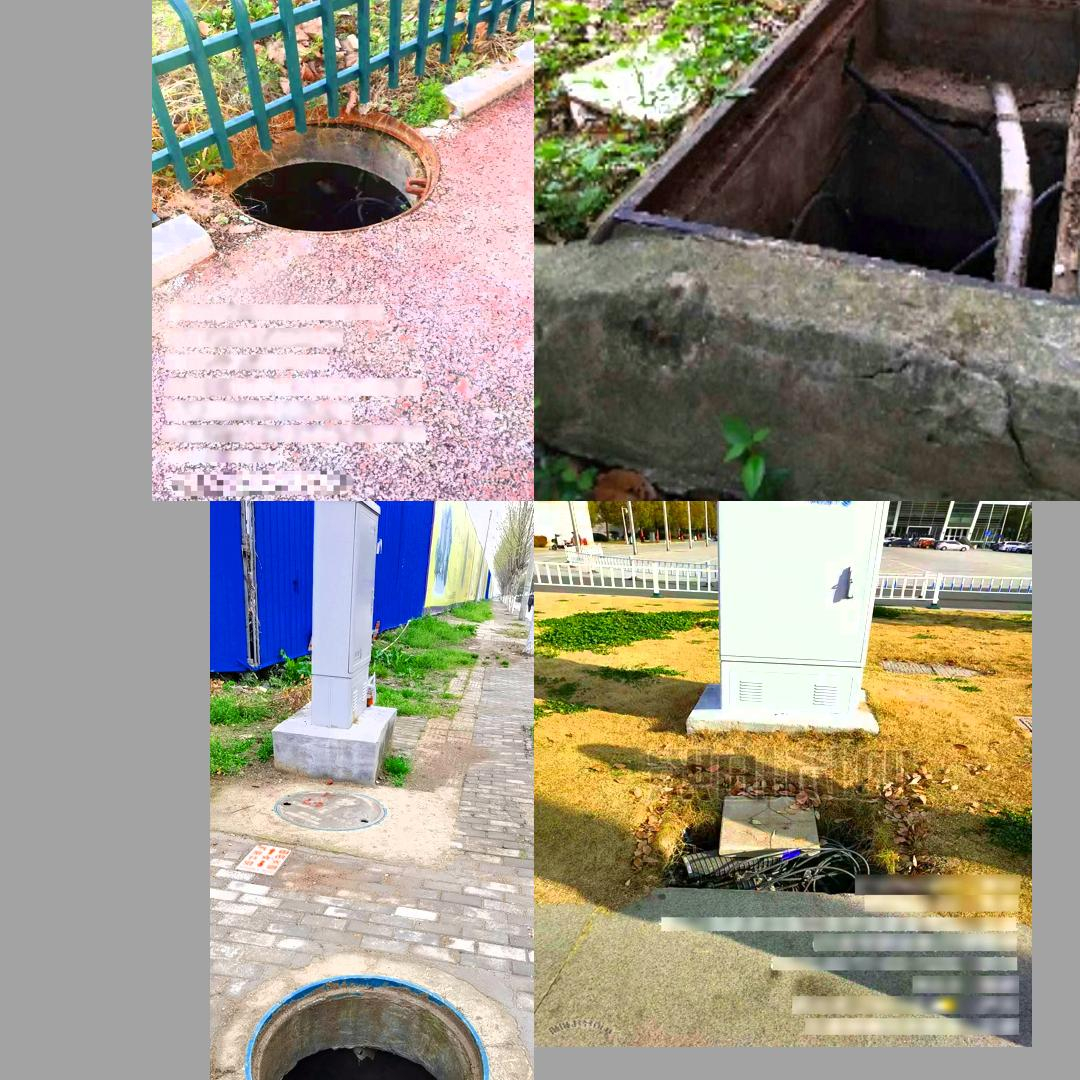lose: (589, 0, 1080, 304), (650, 786, 925, 896), (213, 107, 445, 236), (243, 973, 490, 1080)
